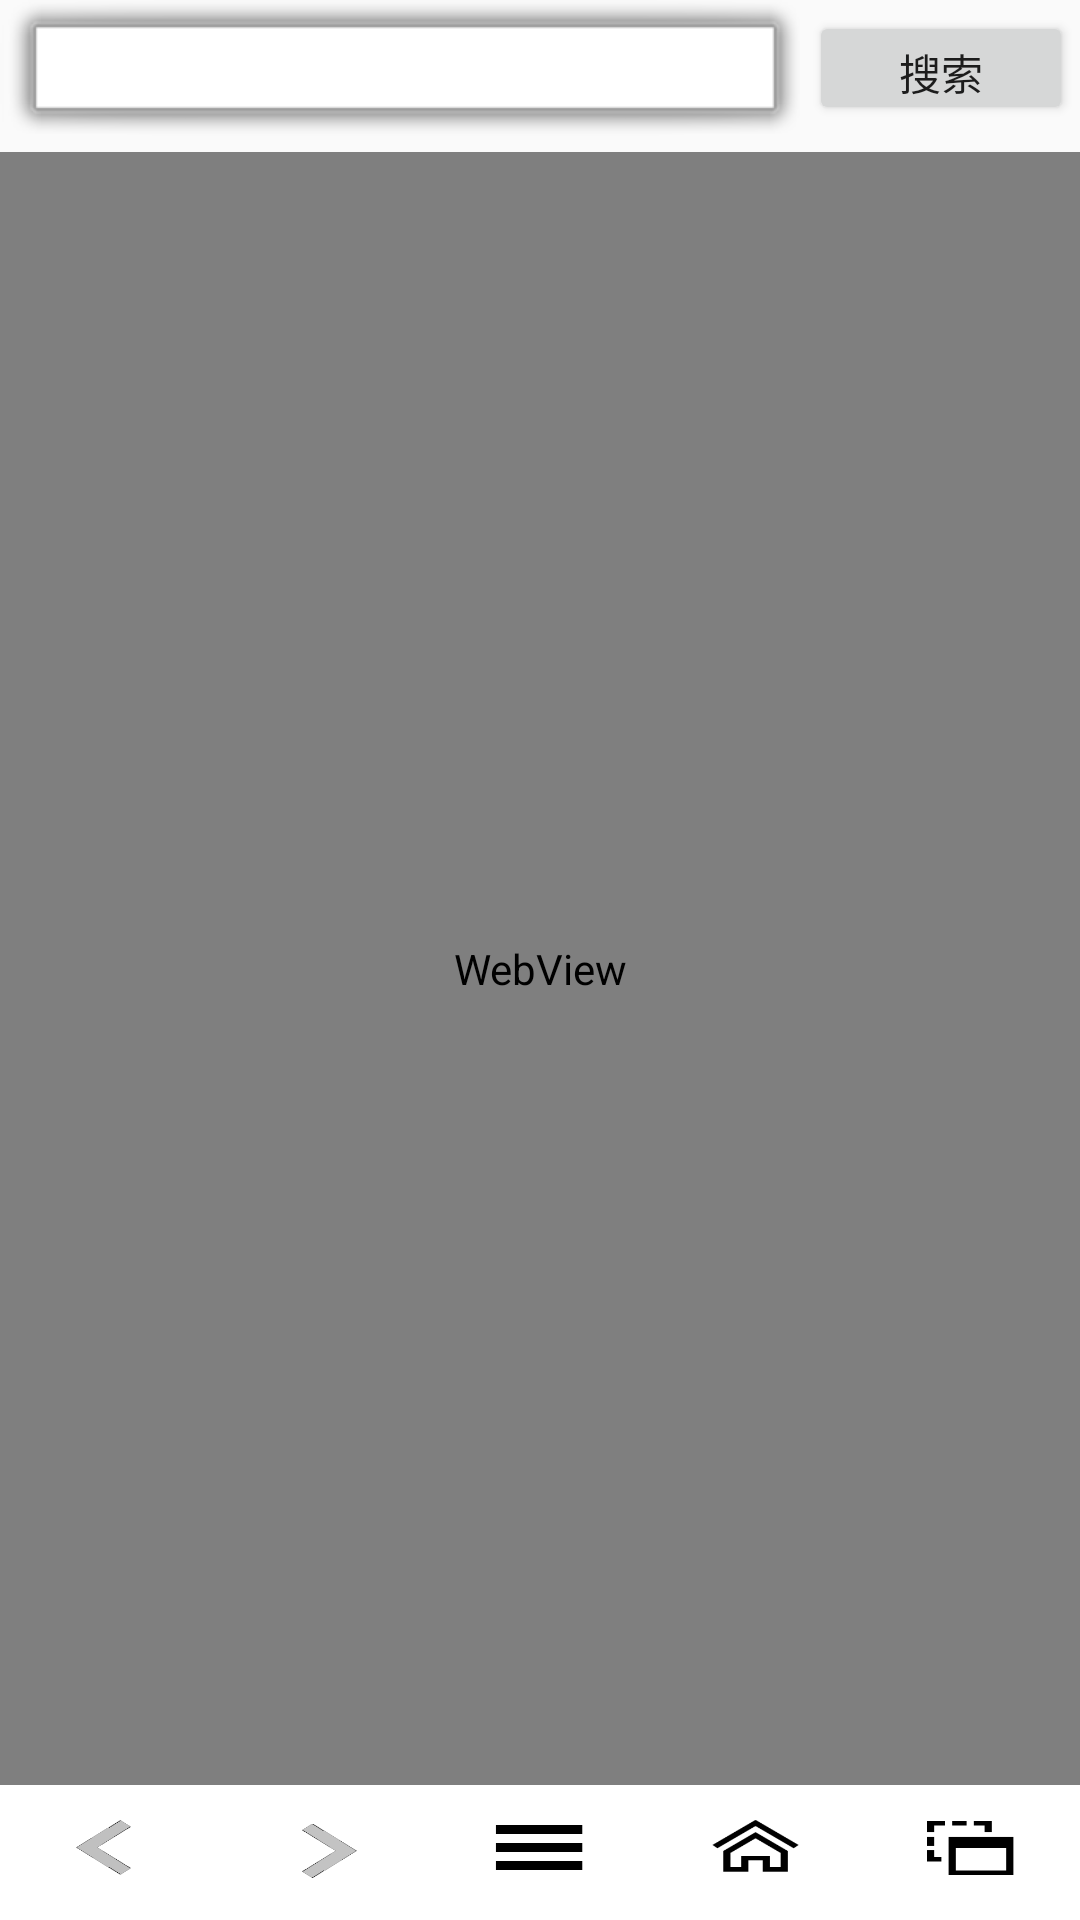

Locate icon controls on the screen. Image size 1080×1920, boxes as (x1, y1, x2, y2).
back: (76, 1820, 131, 1875)
forward: (302, 1824, 357, 1878)
home: (712, 1820, 799, 1872)
menu: (496, 1825, 583, 1870)
newwin: (927, 1821, 1014, 1875)
